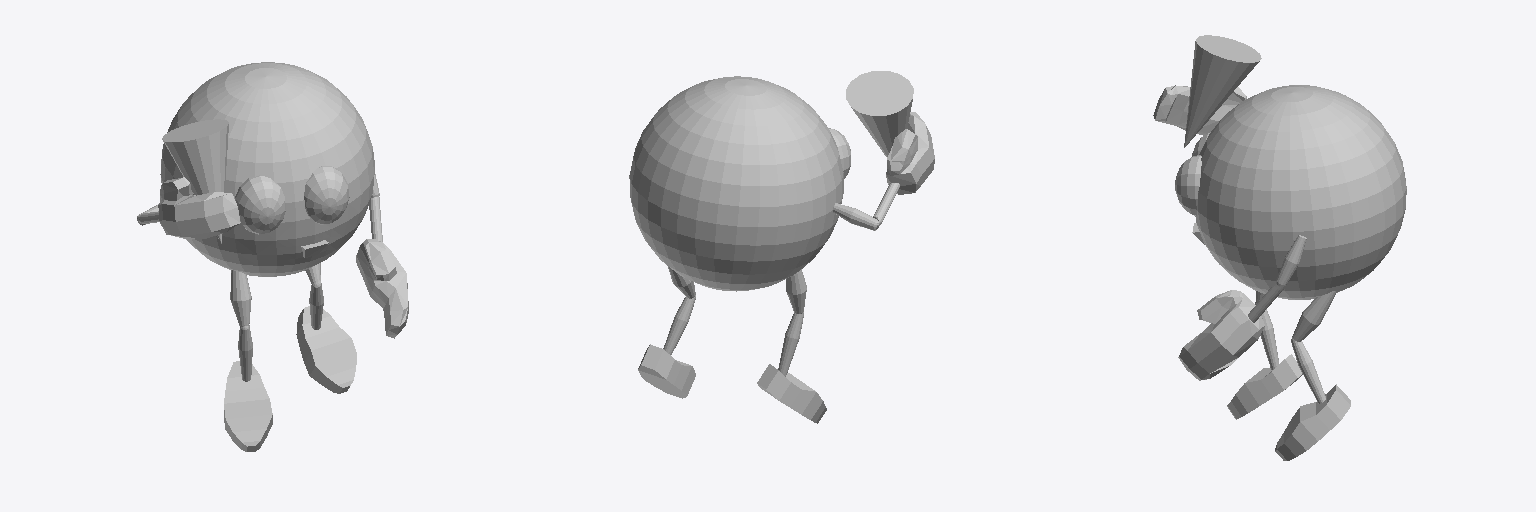
File: jump_000046.obj
3 views of the same model, side by side, from view 1: azimuth 30°, elevation 25°; view 2: azimuth 150°, elevation 25°; view 3: azimuth 270°, elevation 25° (orthographic).
Parts seen in each view (by area): view 1: Rusko_Sphere; view 2: Rusko_Sphere; view 3: Rusko_Sphere.
Boxes of the visible parts, x1=… form: Rusko_Sphere: x1=137, y1=62, x2=408, y2=451; Rusko_Sphere: x1=629, y1=71, x2=934, y2=423; Rusko_Sphere: x1=1153, y1=35, x2=1406, y2=460.
Bounding box in the file's own units: 5.31 × 7.14 × 4.71.